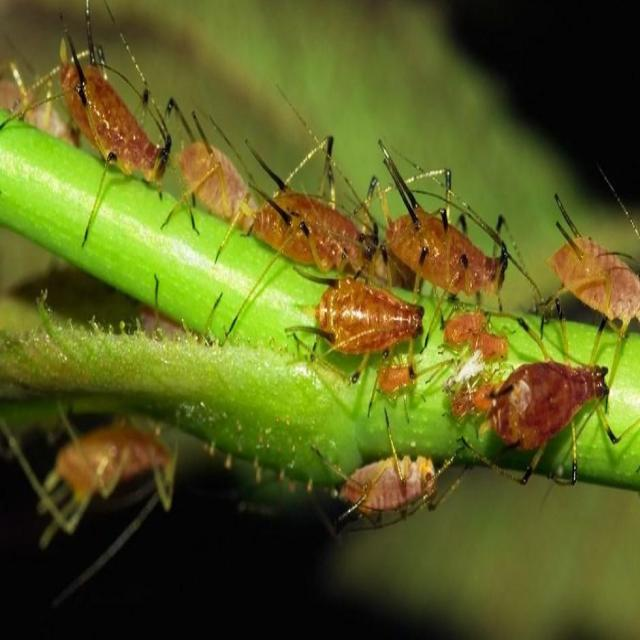Aphids: (284, 248, 453, 410), (476, 342, 636, 492), (249, 144, 396, 306), (298, 425, 469, 549), (397, 160, 516, 330), (49, 33, 168, 201), (545, 222, 640, 342), (179, 125, 261, 232), (371, 352, 431, 412), (468, 326, 516, 366)
